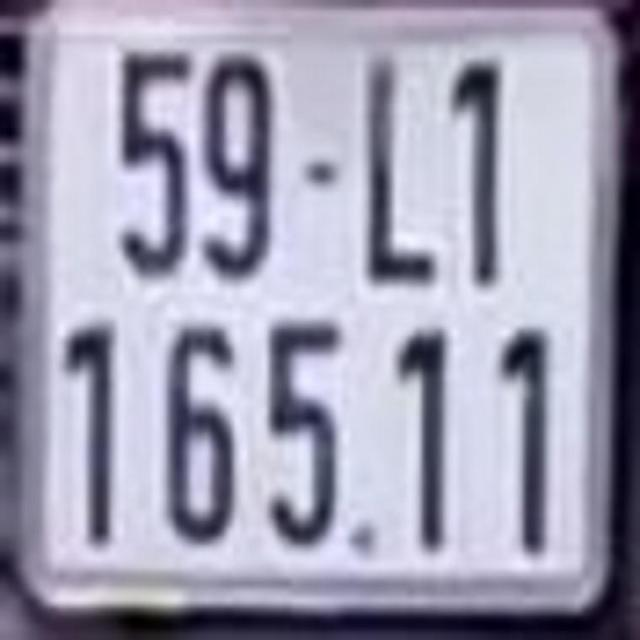1: (62, 316, 114, 548), (452, 56, 504, 287), (499, 327, 549, 555), (403, 326, 448, 548)
5: (266, 318, 343, 540), (118, 50, 192, 277)
6: (165, 316, 237, 543)
9: (205, 51, 272, 272)
L: (362, 47, 441, 283)
